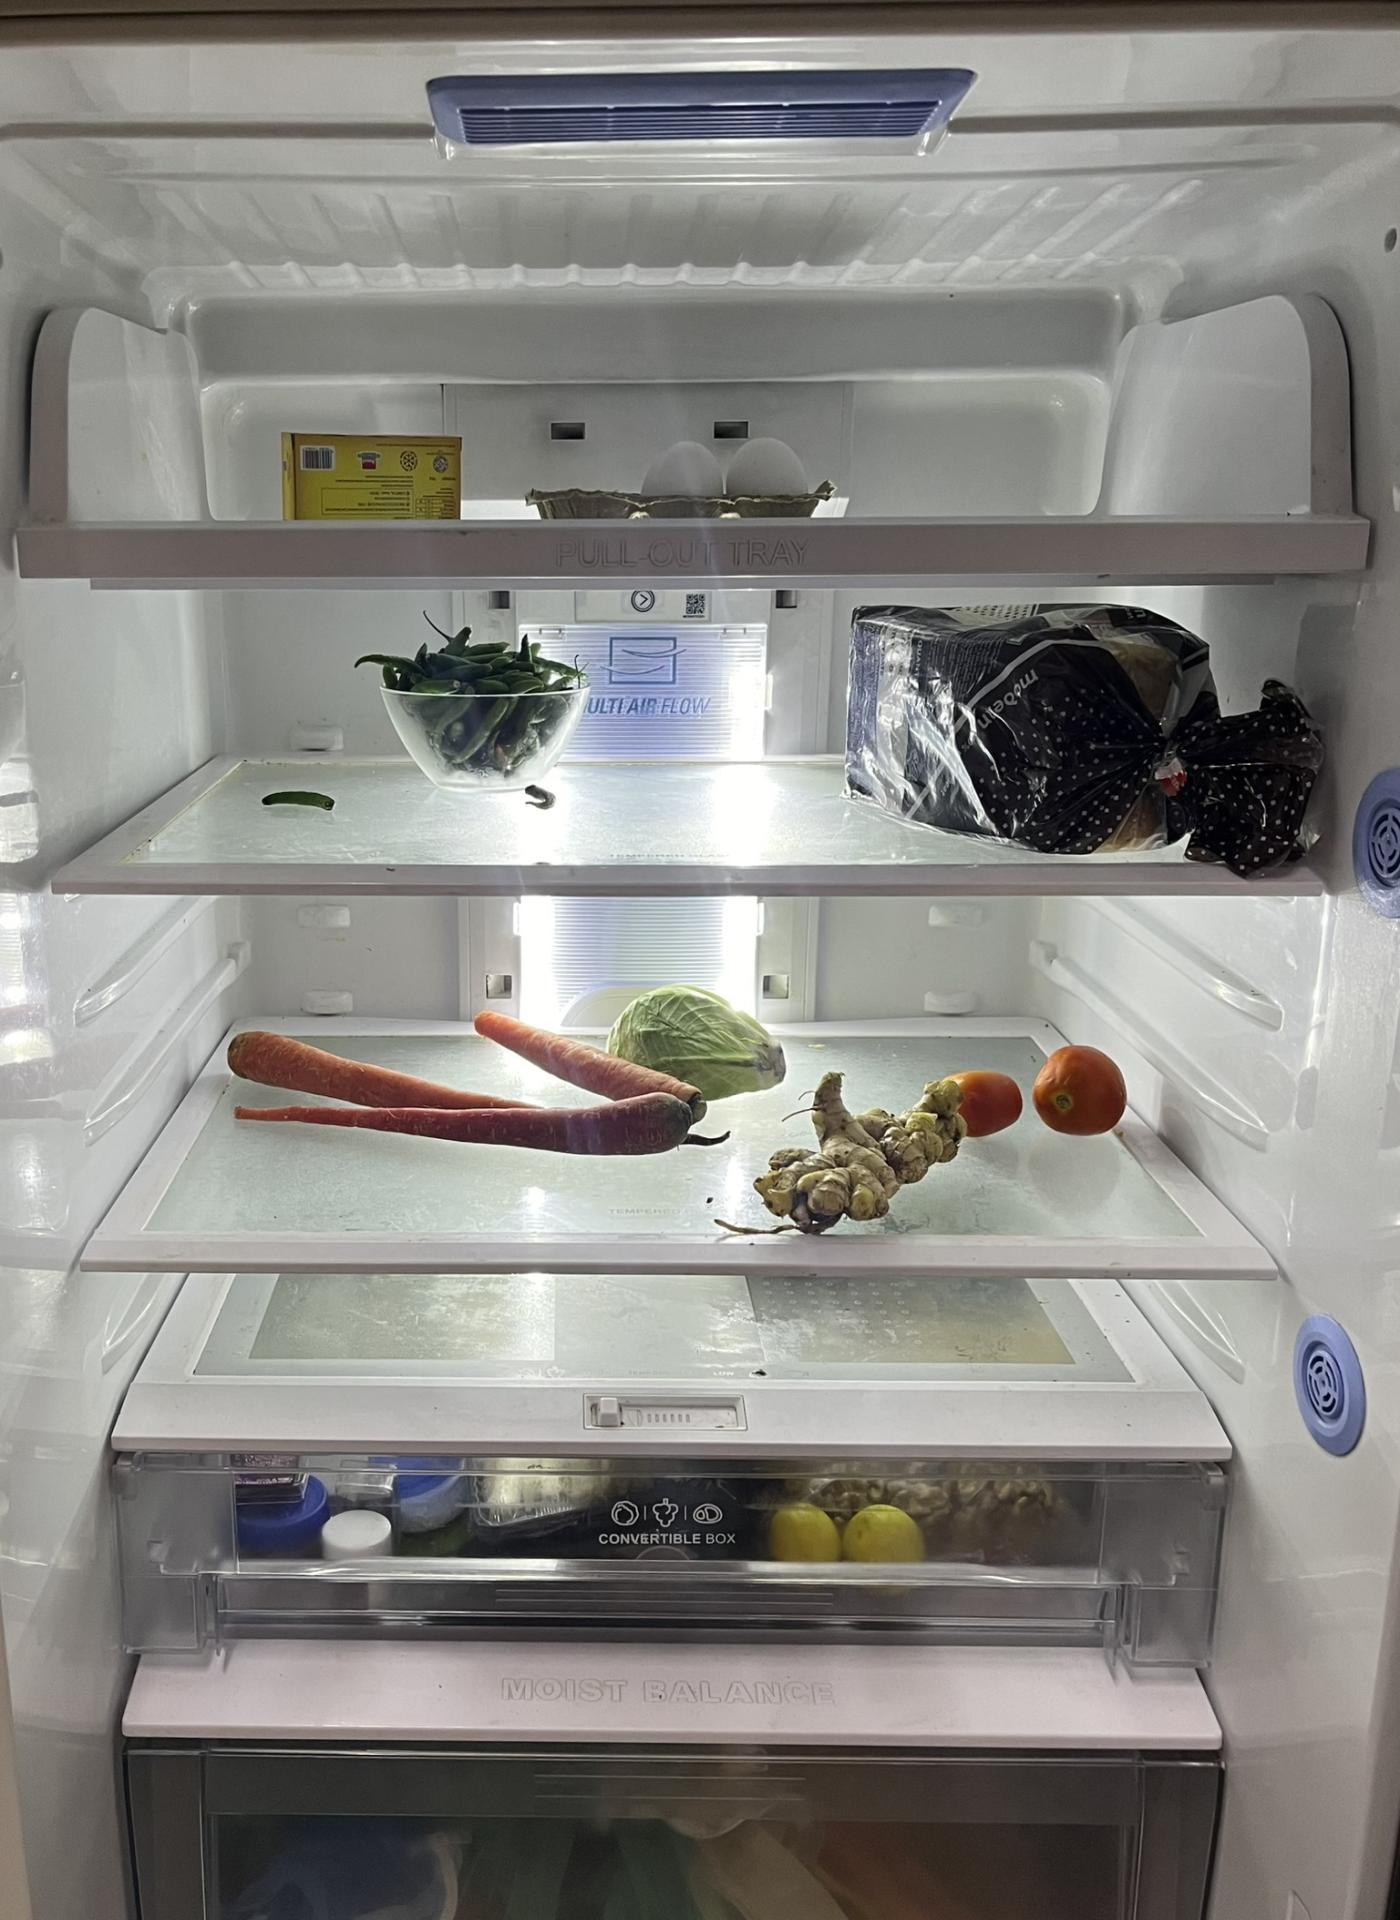bread: (838, 599, 1318, 881)
butter: (279, 425, 468, 526)
cabbage: (611, 991, 798, 1081)
carrots: (224, 1035, 713, 1184)
chillies: (377, 619, 580, 772)
egg: (650, 431, 811, 499)
ginger: (756, 1076, 974, 1227)
tomato: (930, 1045, 1129, 1137)
